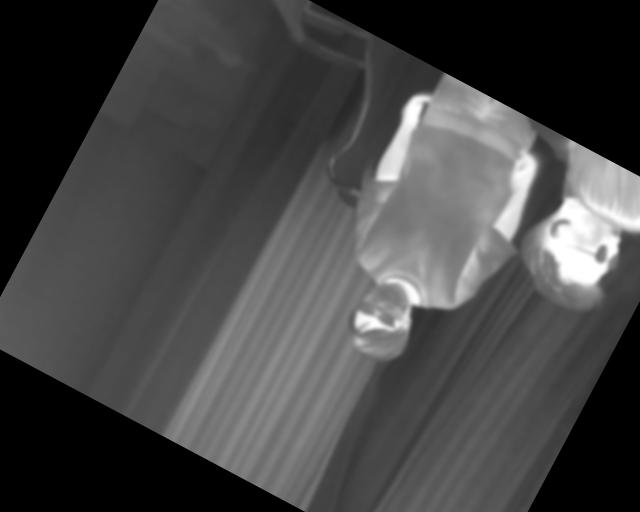face: (335, 269, 430, 370)
